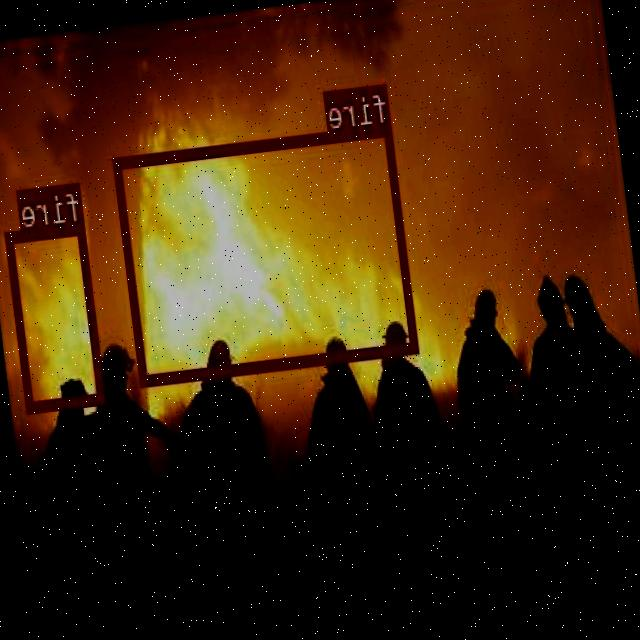fire: (115, 122, 420, 384), (7, 222, 106, 410)
